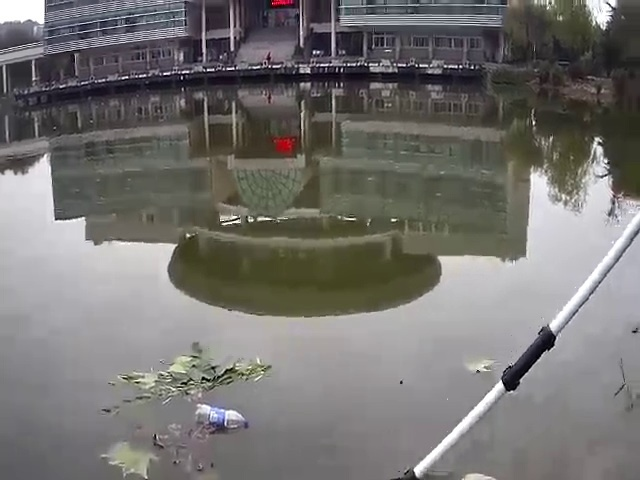bottle: (187, 405, 253, 433)
leaf: (115, 344, 274, 406), (101, 437, 163, 476), (460, 352, 497, 381)
